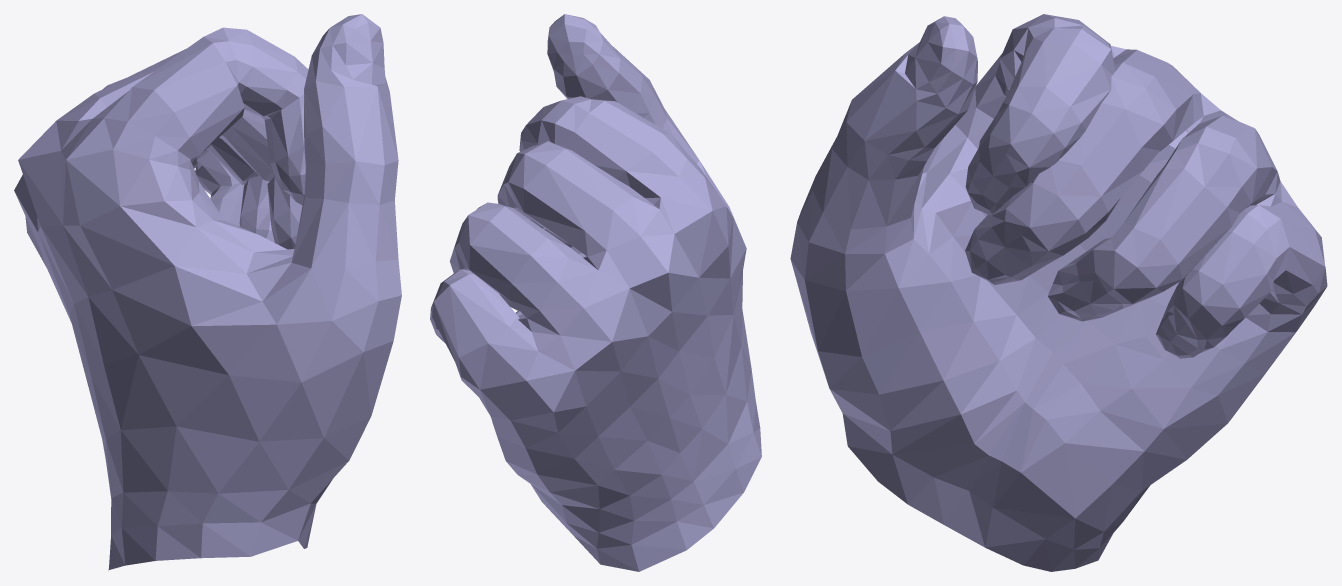
File: frame_0054_source_000054_hand.glb
3 renders of one model, left to right at view 1: azimuth 30°, elevation 25°; view 2: azimuth 150°, elevation 25°; view 3: azimuth 270°, elevation 25°, orthographic. The views are drawn at different scales.
Visible parts, largest first — view 1: world; view 2: world; view 3: world.
Boxes of the visible parts, x1,y1,x2,y2 form: world: (14, 14, 401, 570); world: (430, 14, 761, 571); world: (790, 14, 1327, 571).
Bounding box in the file's own units: 0.0608 × 0.122 × 0.0999.
